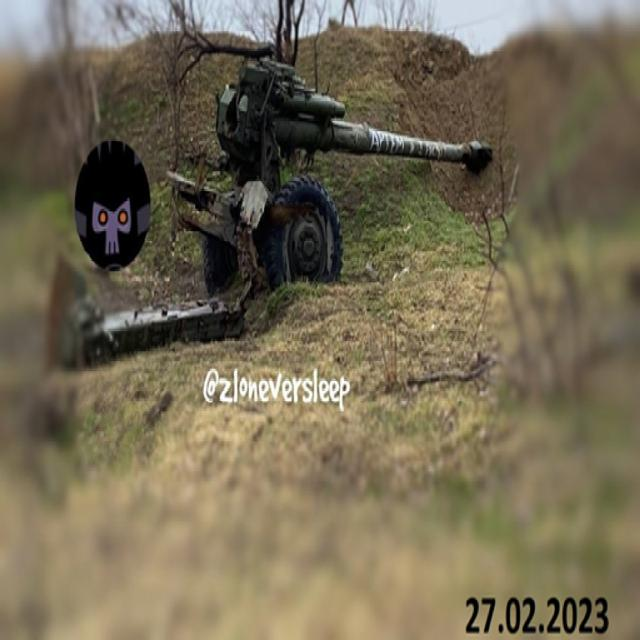ART: (156, 56, 499, 342)
